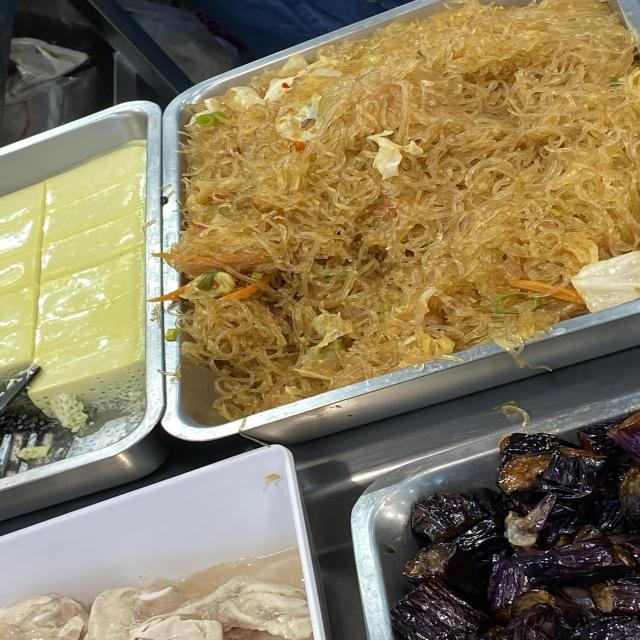Ants climbing the tree: (249, 83, 622, 305)
